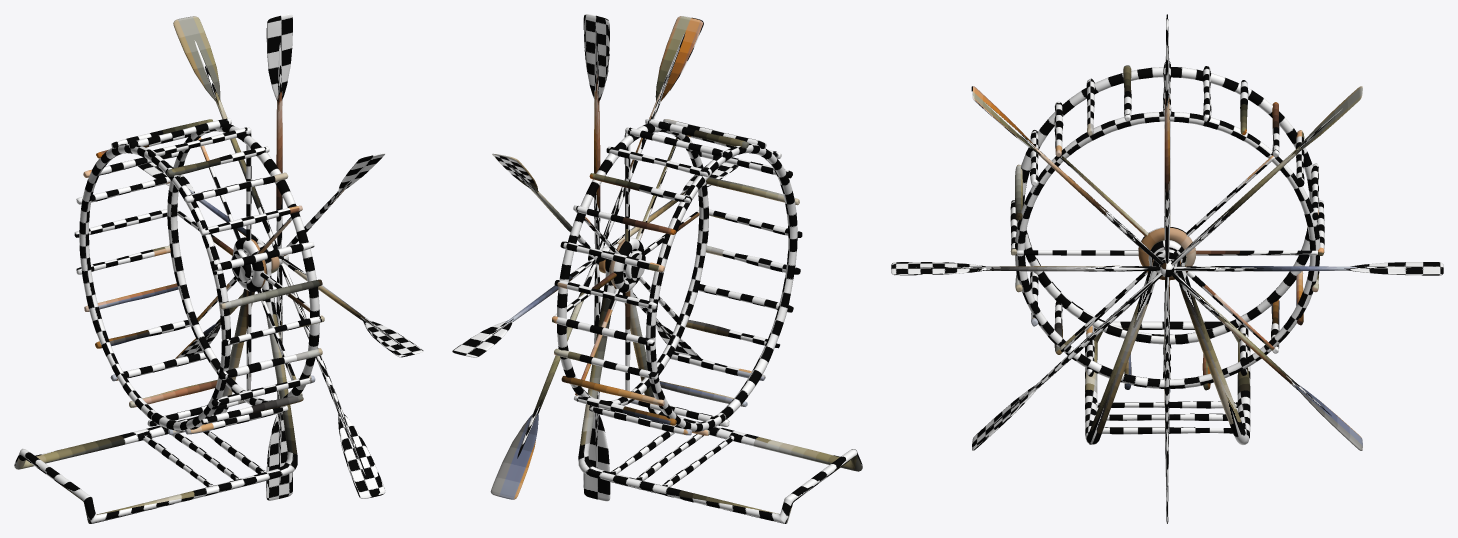
File: SpinningWheel_L.fbx
The picture shows the model from 3 angles, left to right: view 1: azimuth 30°, elevation 25°; view 2: azimuth 150°, elevation 25°; view 3: azimuth 270°, elevation 25°; orthographic projection. The views are drawn at different scales.
Visible parts, largest first — view 1: SpinningWheel.001, SpinningWheel_Base_L; view 2: SpinningWheel.001, SpinningWheel_Base_L; view 3: SpinningWheel.001, SpinningWheel_Base_L.
Part boxes in pixels (x1,y1,x2,y2): SpinningWheel.001: (74, 14, 423, 500); SpinningWheel_Base_L: (14, 243, 297, 523); SpinningWheel.001: (452, 14, 802, 501); SpinningWheel_Base_L: (578, 243, 862, 523); SpinningWheel.001: (891, 14, 1443, 523); SpinningWheel_Base_L: (1085, 240, 1250, 444).
Bounding box in the file's own units: 388 × 743 × 743.
